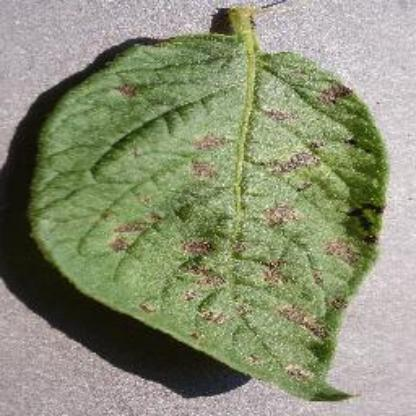Early-Blight: (24, 8, 384, 406)
